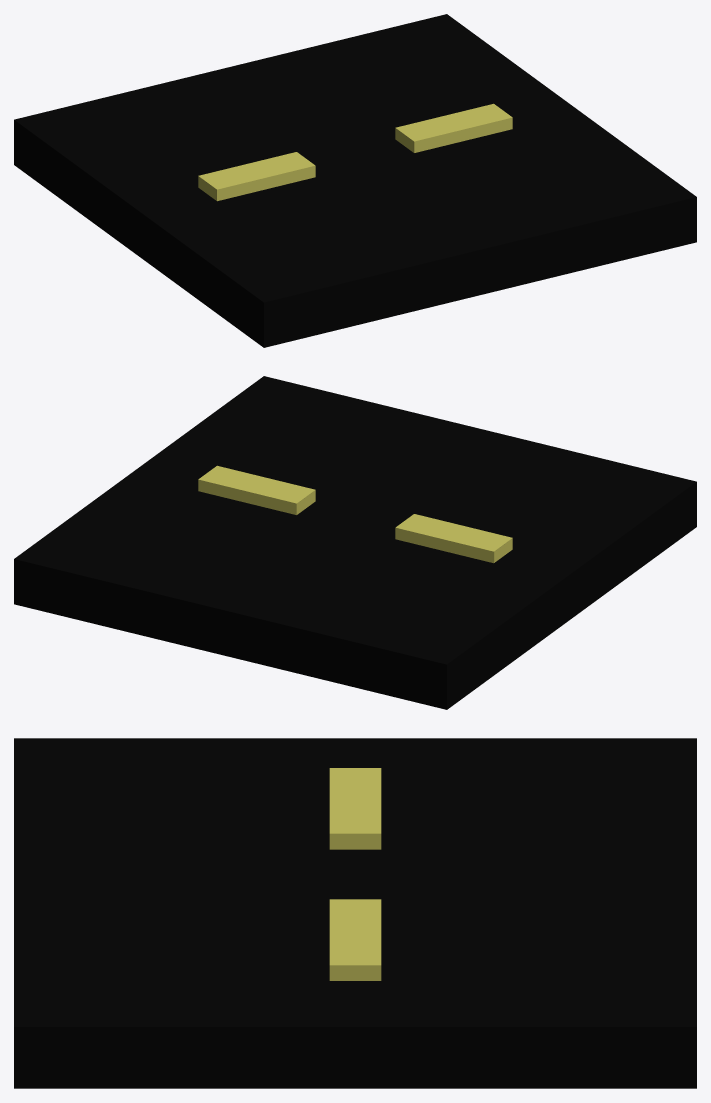
File: Road.fbx
3 renders of one model, top to bottom at view 1: azimuth 30°, elevation 25°; view 2: azimuth 150°, elevation 25°; view 3: azimuth 270°, elevation 25°, orthographic. The views are drawn at different scales.
Visible parts, largest first — view 1: Road, Marker; view 2: Road, Marker; view 3: Road, Marker.
Part boxes in pixels (left/top/right/bottom): Road: left=14, top=14, right=696, bottom=347; Marker: left=198, top=103, right=512, bottom=201; Road: left=14, top=376, right=696, bottom=709; Marker: left=198, top=465, right=512, bottom=563; Road: left=14, top=738, right=696, bottom=1088; Marker: left=329, top=768, right=381, bottom=980.
Bounding box in the file's own units: 10 × 1.26 × 10.
Materials: 1 (1 with a texture image).
